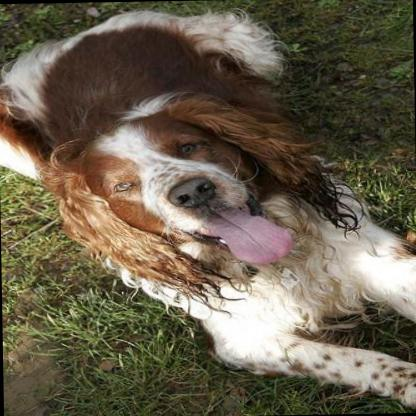Welsh_springer_spaniel: (0, 3, 415, 414)
